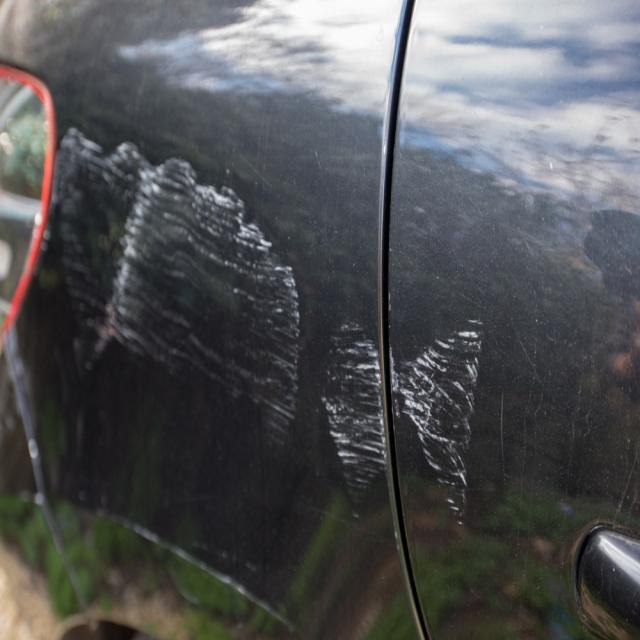scratch: (44, 119, 304, 450), (389, 314, 484, 528), (321, 318, 386, 509)
